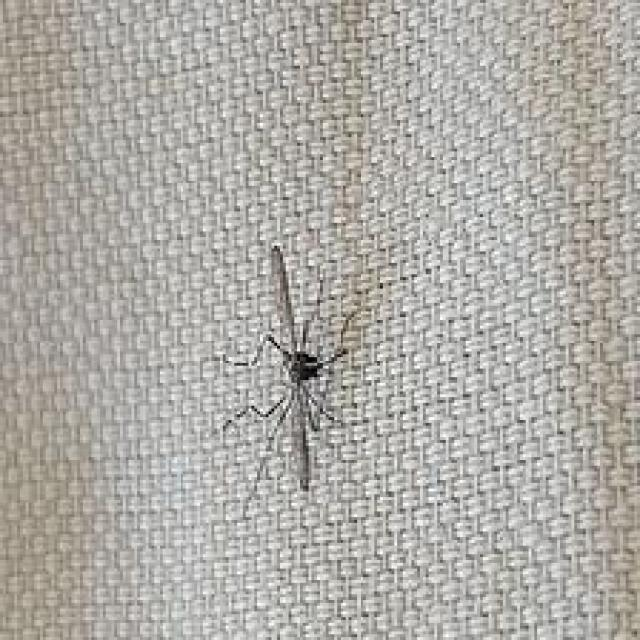Aedes albopictus: (218, 243, 362, 494)
